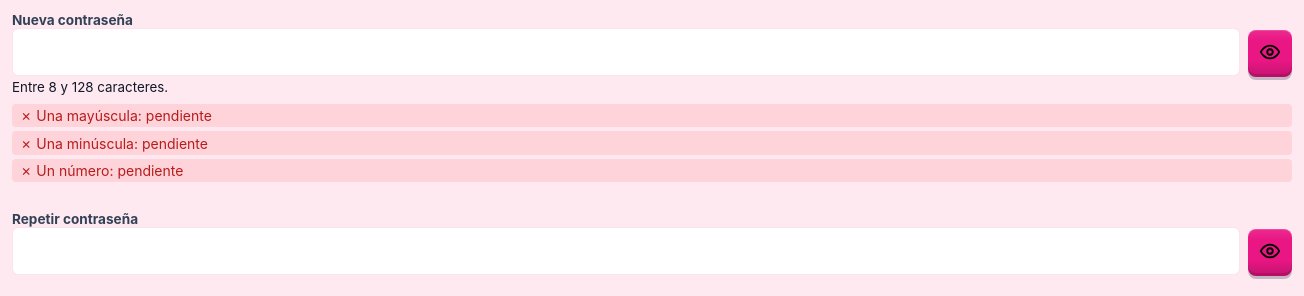
Test case: contraseña de registro › muestra y oculta cada campo independientemente sin enviar
Type "Abcdefg1" into the password field labelled "Nueva contraseña".
click(626, 52); type("Abcdefg1")  # box [12,28,1240,76]
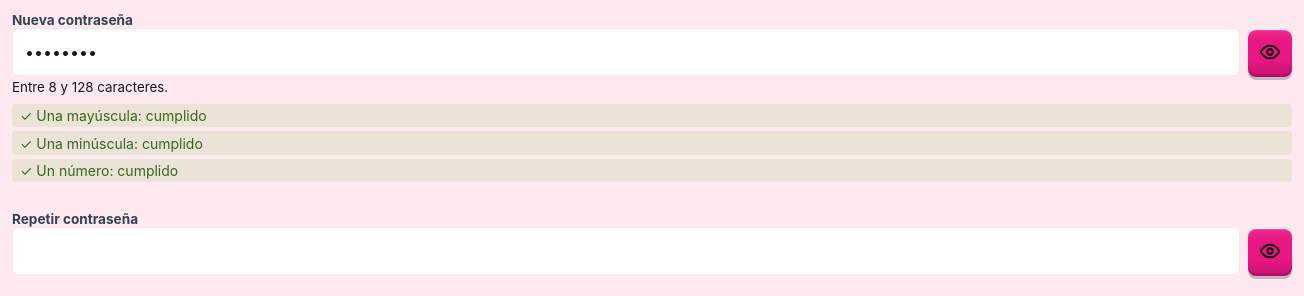
Click the button named "Mostrar nueva contraseña".
click(1270, 52)  # box [1248,30,1292,74]
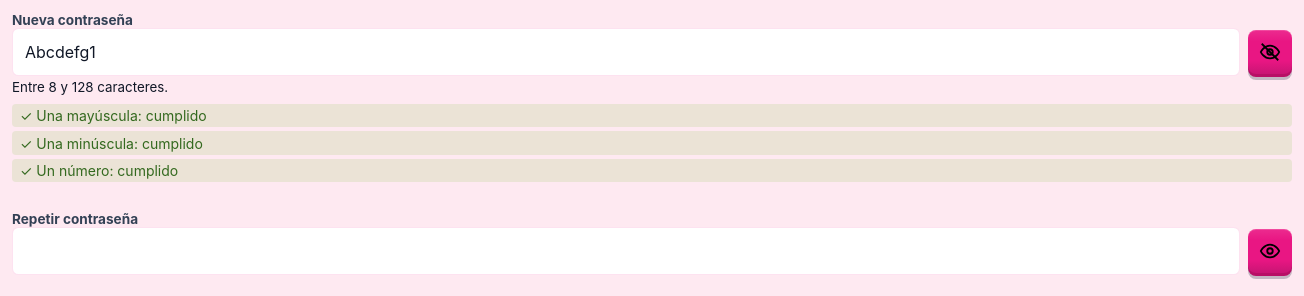
Expected: the field labelled "Nueva contraseña" shows its text, [12,28,1240,76]
Click the button named "Mostrar repetir contraseña".
click(1270, 251)  # box [1248,229,1292,273]
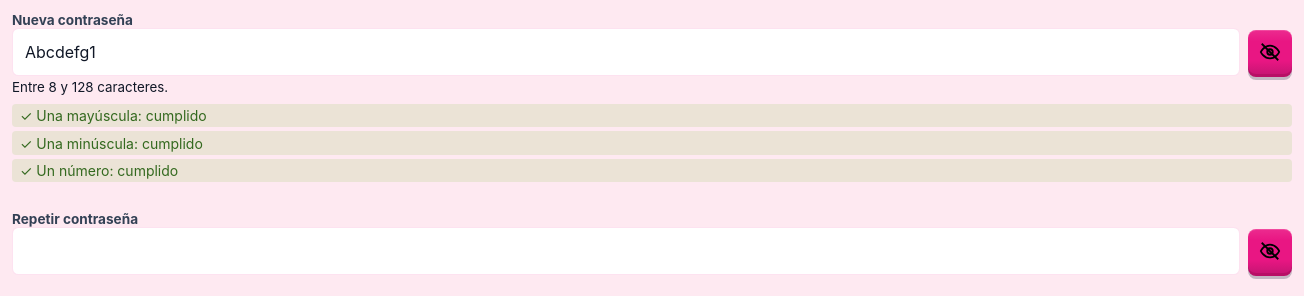
Click the button named "Ocultar nueva contraseña".
click(1270, 52)  # box [1248,30,1292,74]
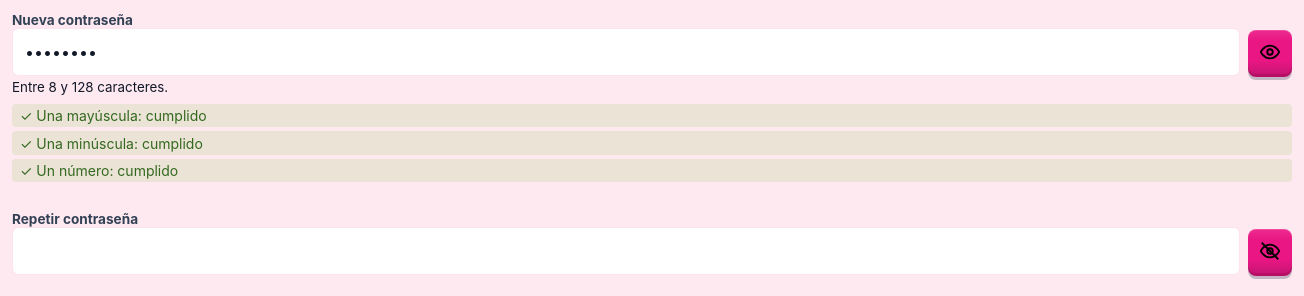
Expected: the password field labelled "Nueva contraseña" hides its text, [12,28,1240,76]
